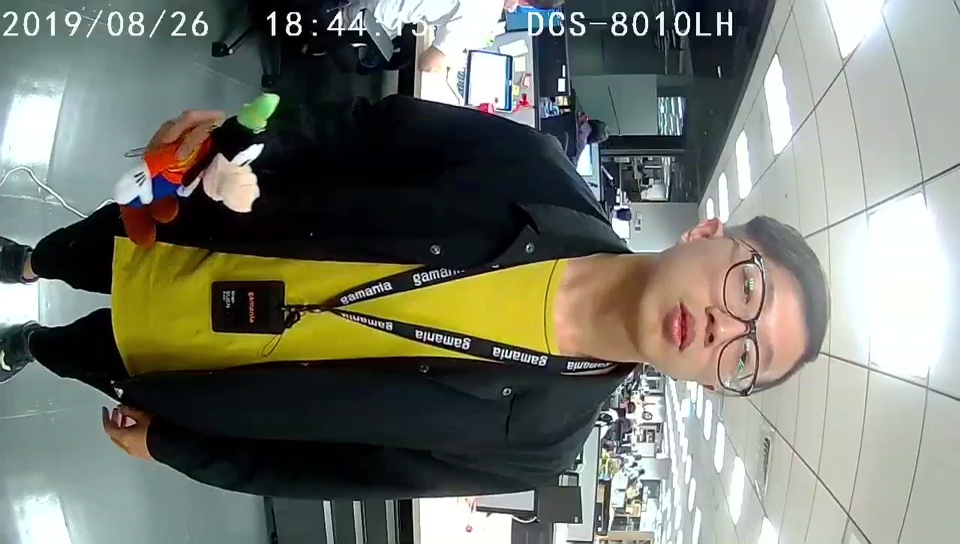goofy: (113, 89, 279, 250)
